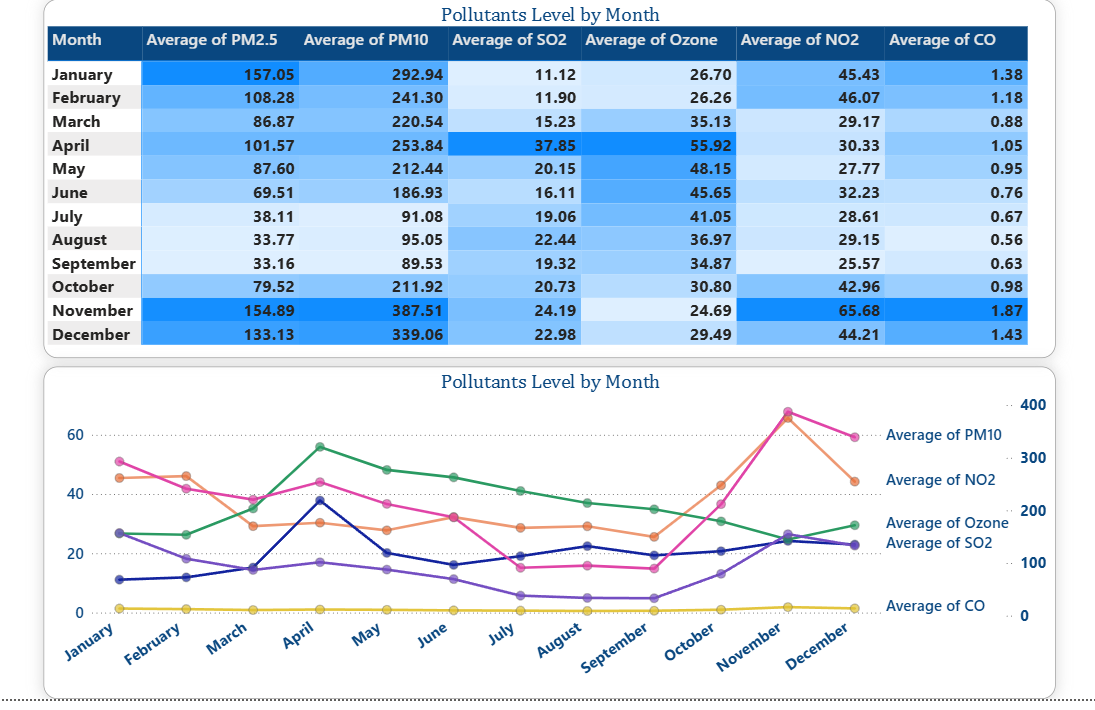

What the dashboard file says about the page in this screenshot:
{"tool":"powerbi","page":{"name":"Pollutants Level by Month","canvas":[1300,800],"ordinal":1},"visuals":[{"type":"lineChart","title":"Pollutants Level by Month","fields":{"Category":["Date.Calender Date.Variation.Date Hierarchy.Month"],"Y":["Avg(Pollutants_Gas.NO2)","Avg(Pollutants_Gas.SO2)","Avg(Pollutants_Gas.Ozone)","Avg(Pollutants_Gas.CO)"],"Y2":["Avg(Pollutants_PM.PM10)","Avg(Pollutants_PM.PM2.5)"]},"box":[71.4,420,1157.1,380],"z":0},{"type":"pivotTable","title":"Pollutants Level by Month","fields":{"Values":["Avg(Pollutants_PM.PM2.5)","Avg(Pollutants_PM.PM10)","Avg(Pollutants_Gas.SO2)","Avg(Pollutants_Gas.Ozone)","Avg(Pollutants_Gas.NO2)","Avg(Pollutants_Gas.CO)"],"Rows":["Date.Calender Date.Variation.Date Hierarchy.Month"]},"box":[71.4,0,1157.1,410],"z":1}]}

Visuals, with their boxes on the page's 1300x800 design canvas (x1, y1, x2, y2). These are canvas units, not pixel positions in the 1095x710 screenshot, which may show the page scaled, cropped or inside an application window:
"Pollutants Level by Month" lineChart: <bbox>71, 420, 1228, 800</bbox>
"Pollutants Level by Month" pivotTable: <bbox>71, 0, 1228, 410</bbox>
